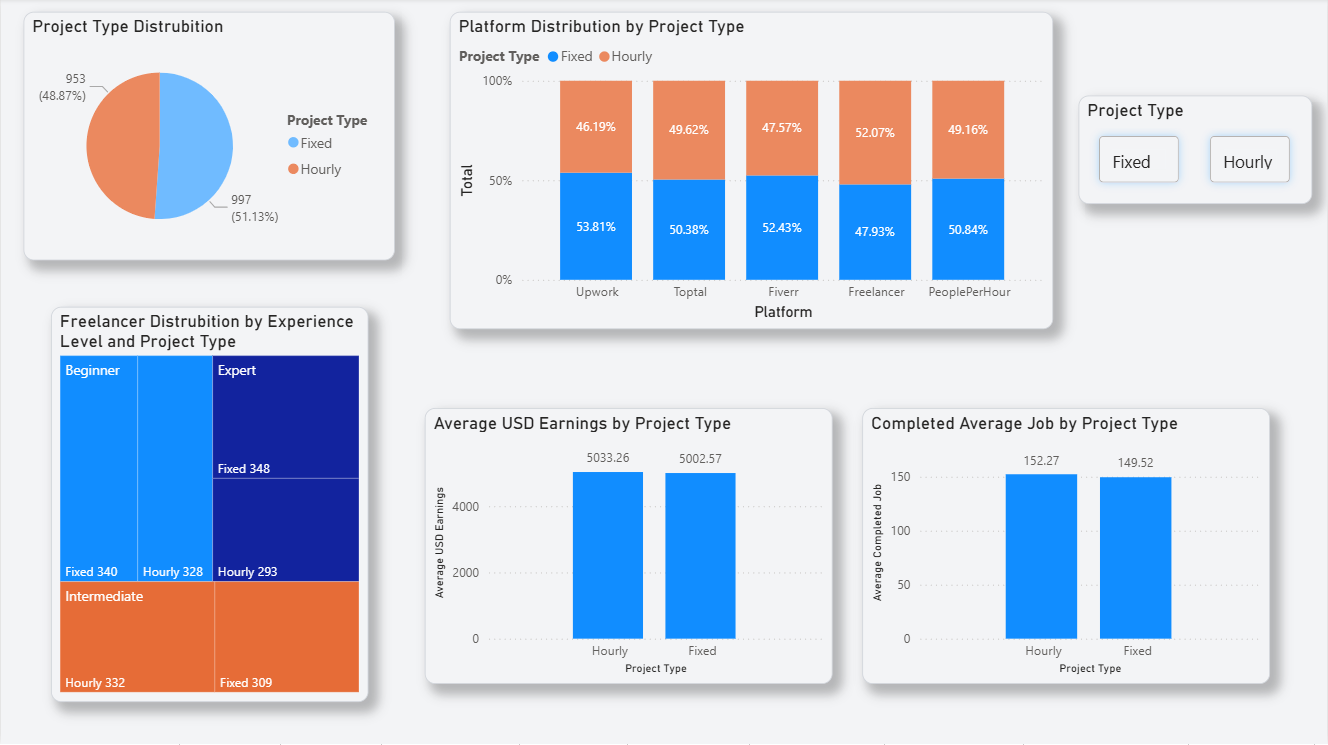

The page's visual inventory and layout, read from the dashboard file:
{"tool":"powerbi","page":{"name":"Project Type","canvas":[1280,720],"ordinal":6},"visuals":[{"type":"pieChart","title":"Project Type Distrubition","fields":{"Category":["freelancer_earnings_bd - freelancer_earnings_bd csv csv.Project Type"],"Y":["CountNonNull(freelancer_earnings_bd - freelancer_earnings_bd csv csv.Project Type)"]},"box":[21.7,13.3,358.3,240.1],"z":0},{"type":"clusteredColumnChart","title":"Average USD Earnings by Project Type","fields":{"Category":["freelancer_earnings_bd - freelancer_earnings_bd csv csv.Project Type"],"Y":["Avg(freelancer_earnings_bd - freelancer_earnings_bd csv csv.Earnings USD)"]},"box":[409,395.7,393.3,266.6],"z":1000},{"type":"columnChart","title":"Completed Average Job by Project Type","fields":{"Category":["freelancer_earnings_bd - freelancer_earnings_bd csv csv.Project Type"],"Y":["Avg(freelancer_earnings_bd - freelancer_earnings_bd csv csv.Job Completed)"]},"box":[831.2,395.7,393.3,266.6],"z":2000},{"type":"hundredPercentStackedColumnChart","title":"Platform Distribution by Project Type","fields":{"Category":["freelancer_earnings_bd - freelancer_earnings_bd csv csv.Platform"],"Series":["freelancer_earnings_bd - freelancer_earnings_bd csv csv.Project Type"],"Y":["CountNonNull(freelancer_earnings_bd - freelancer_earnings_bd csv csv.Platform)"]},"box":[433.1,13.3,582.7,306.4],"z":3000},{"type":"treemap","title":"Freelancer Distrubition by Experience Level and Project Type","fields":{"Details":["freelancer_earnings_bd - freelancer_earnings_bd csv csv.Project Type"],"Group":["freelancer_earnings_bd - freelancer_earnings_bd csv csv.Experience Level"],"Values":["CountNonNull(freelancer_earnings_bd - freelancer_earnings_bd csv csv.Freelancer ID)"]},"box":[48.3,298,306.4,381.2],"z":4000},{"type":"advancedSlicerVisual","fields":{"Values":["freelancer_earnings_bd - freelancer_earnings_bd csv csv.Project Type"]},"box":[1040,94.1,225.6,105],"z":5000}]}

Visuals, with their boxes in screenshot pixels (x1, y1, x2, y2), scaled from the page's 1280x720 canvas onto the 1328x745 screenshot:
"Project Type Distrubition" pieChart: [x1=23, y1=14, x2=394, y2=262]
"Average USD Earnings by Project Type" clusteredColumnChart: [x1=424, y1=409, x2=832, y2=685]
"Completed Average Job by Project Type" columnChart: [x1=862, y1=409, x2=1270, y2=685]
"Platform Distribution by Project Type" hundredPercentStackedColumnChart: [x1=449, y1=14, x2=1054, y2=331]
"Freelancer Distrubition by Experience Level and Project Type" treemap: [x1=50, y1=308, x2=368, y2=703]
advancedSlicerVisual - freelancer_earnings_bd - freelancer_earnings_bd csv csv.Project Type: [x1=1079, y1=97, x2=1313, y2=206]
